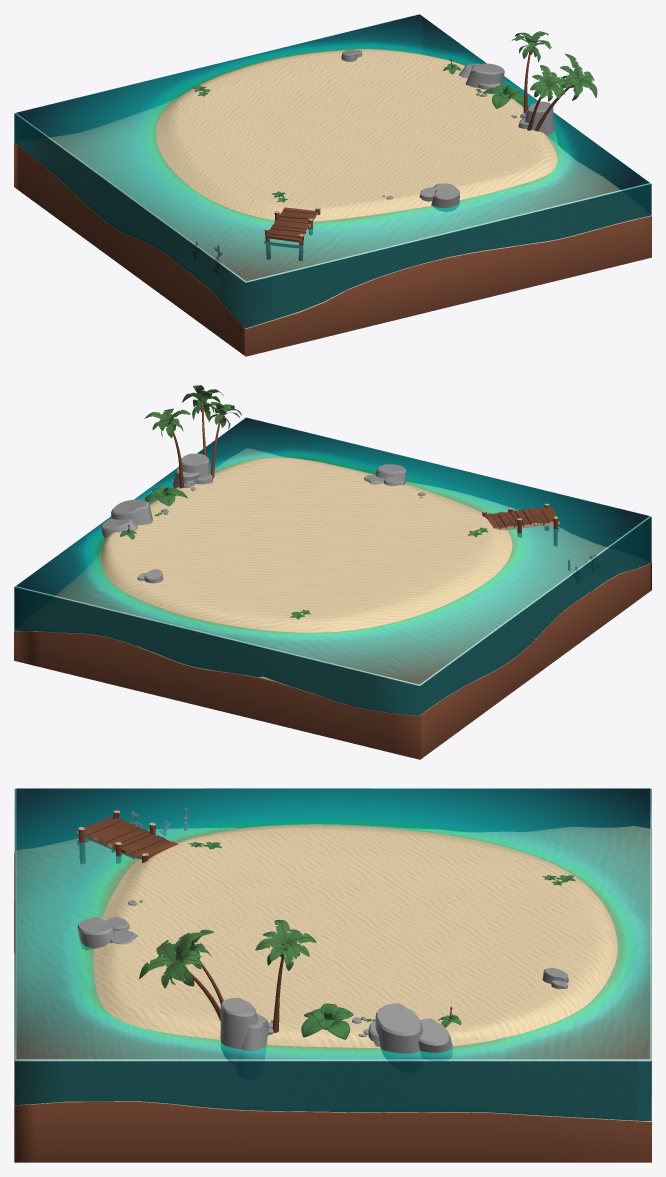
The model's file is Island.fbx.
The picture shows the model from 3 angles, top to bottom: view 1: azimuth 30°, elevation 25°; view 2: azimuth 150°, elevation 25°; view 3: azimuth 270°, elevation 25°; orthographic projection. The views are drawn at different scales.
Parts seen in each view (by area): view 1: Ground, Water, Jetty, Palm_01, Rock_03, Palm_02, Rock_07, Rock_02, Palm_03, Shrub_01; view 2: Ground, Water, Jetty, Rock_03, Rock_02, Palm_03, Palm_01, Rock_07, Palm_02; view 3: Ground, Water, Rock_03, Jetty, Rock_02, Palm_01, Palm_03, Rock_07, Shrub_01, Palm_02.
Part boxes in pixels (box(x1,y1,x2,y2)): Ground: box(14, 48, 651, 356); Water: box(14, 14, 651, 328); Jetty: box(264, 207, 320, 260); Palm_01: box(534, 53, 597, 131); Rock_03: box(459, 63, 504, 89); Palm_02: box(527, 65, 565, 130); Rock_07: box(419, 183, 459, 211); Rock_02: box(511, 101, 557, 143); Palm_03: box(511, 31, 551, 113); Shrub_01: box(483, 85, 523, 108); Ground: box(14, 448, 651, 759); Water: box(14, 417, 651, 715); Jetty: box(482, 503, 559, 546); Rock_03: box(100, 499, 152, 542); Rock_02: box(172, 453, 212, 490); Palm_03: box(144, 408, 190, 488); Palm_01: box(182, 385, 223, 456); Rock_07: box(364, 464, 406, 485); Palm_02: box(203, 401, 241, 478); Ground: box(14, 824, 651, 1162); Water: box(14, 788, 651, 1120); Rock_03: box(358, 1003, 452, 1060); Jetty: box(76, 810, 177, 863); Rock_02: box(220, 997, 279, 1060); Palm_01: box(139, 932, 220, 1020); Palm_03: box(255, 920, 316, 1032); Rock_07: box(77, 916, 137, 949); Shrub_01: box(301, 1003, 353, 1039); Palm_02: box(160, 929, 223, 1003).
Size of the model in its own units: 33.51 by 12.45 by 32.96.
Materials: 6 (4 with a texture image).
